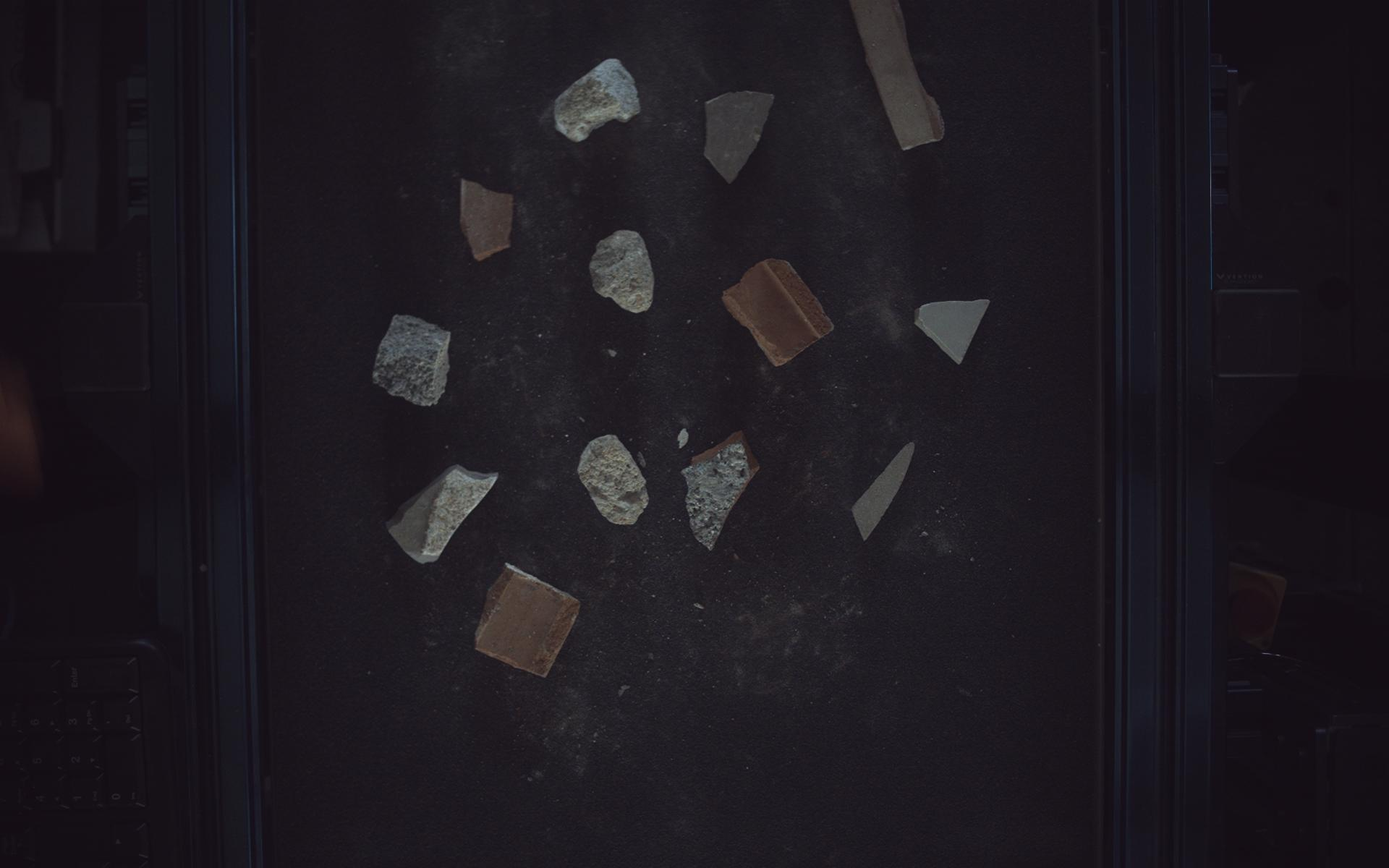brick: (853, 1, 947, 149), (723, 258, 835, 366), (475, 564, 580, 678), (684, 431, 760, 550), (461, 178, 514, 260)
concrete: (553, 57, 641, 141), (373, 315, 451, 407), (579, 435, 649, 526), (590, 229, 655, 312)
tile: (386, 465, 498, 563), (705, 90, 776, 182), (854, 442, 917, 540), (917, 299, 991, 364)
